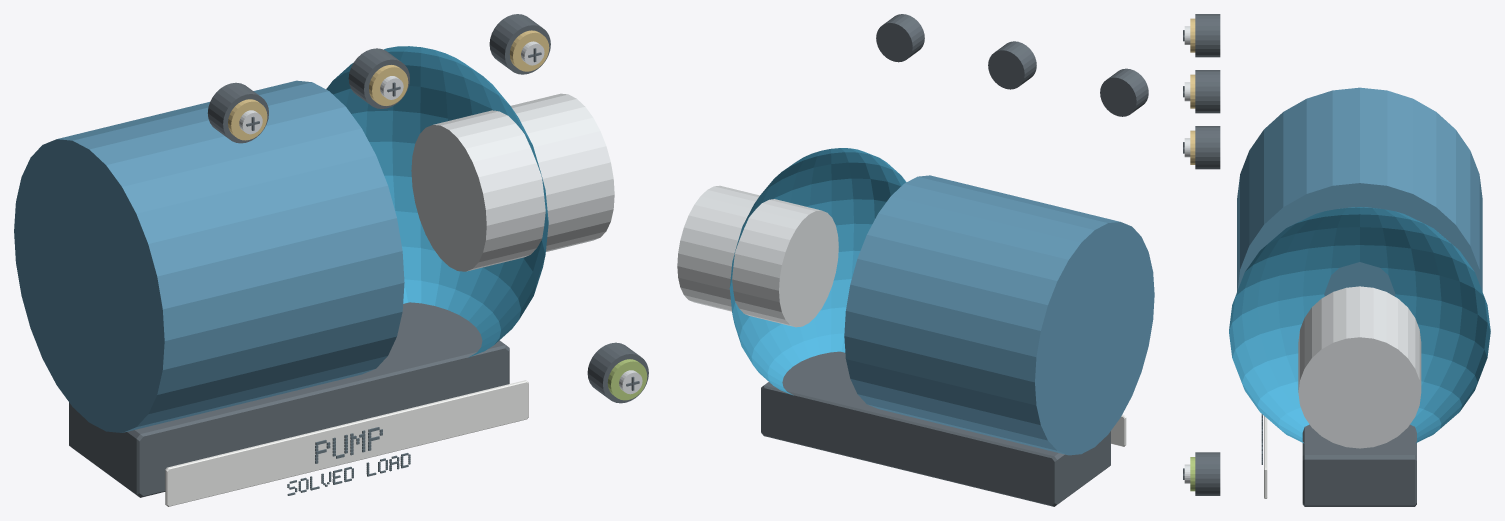
Rendered from pump.glb.
The picture shows the model from 3 angles, left to right: view 1: azimuth 30°, elevation 25°; view 2: azimuth 150°, elevation 25°; view 3: azimuth 270°, elevation 25°; orthographic projection. The views are drawn at different scales.
Parts seen in each view (by area): view 1: pump-detailed; view 2: pump-detailed; view 3: pump-detailed.
Part boxes in pixels (<box>): pump-detailed: <box>14,14,648,506</box>; pump-detailed: <box>677,14,1154,506</box>; pump-detailed: <box>1183,14,1490,506</box>.
Bounding box in the file's own units: 3.32 × 2.93 × 2.22.
